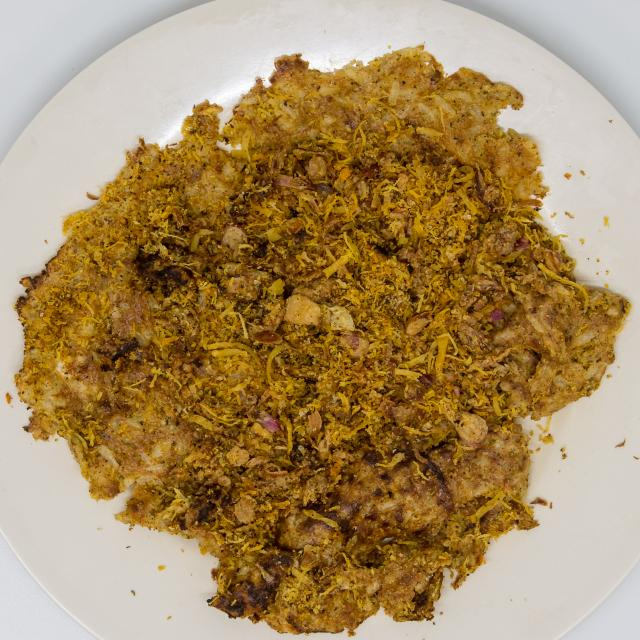Kerak-Telor: (5, 32, 628, 629)
